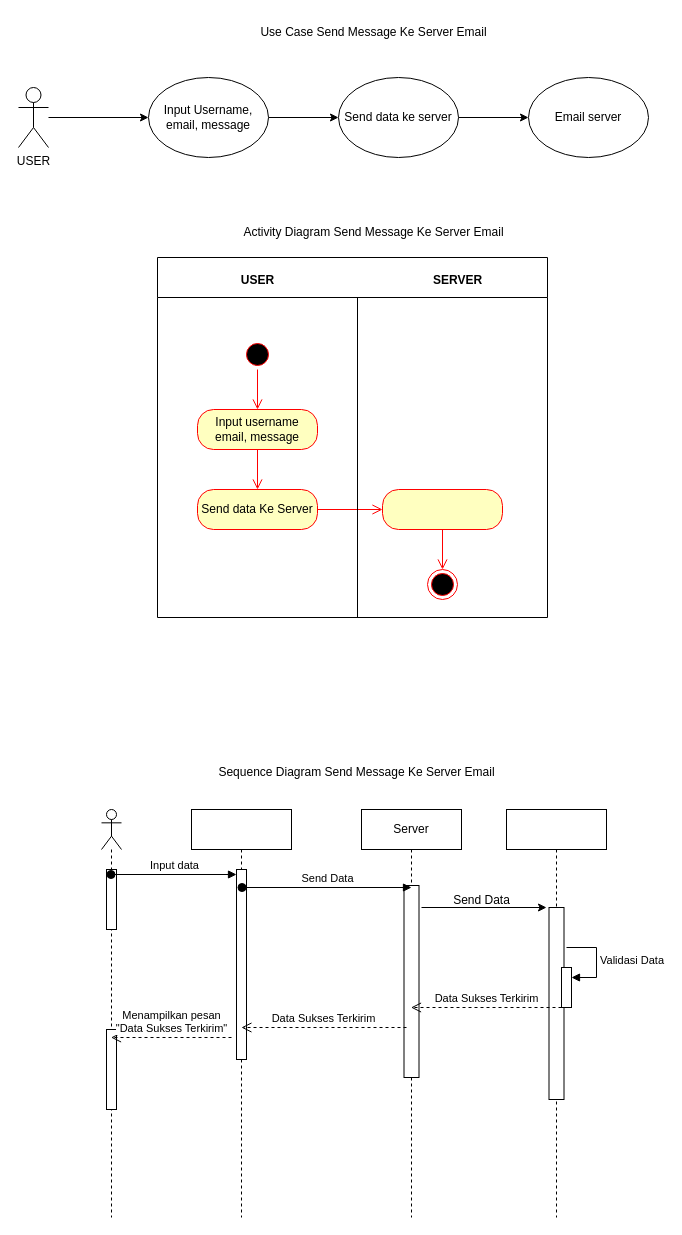
Some shapes in this 682 by 1235 pixel diagram are drawn without their labels. The shapes that lost their labels are listed below. From the top down, each one's box as (x1, y1, x2, y2) in pixels, then its label:
(382, 488, 502, 530): Send Data Ke Server Email
(190, 808, 292, 1218): System
(506, 808, 606, 1218): Server Email
